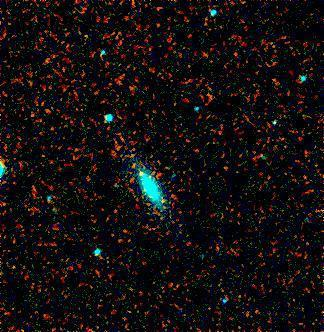star: (124, 158, 154, 188)
